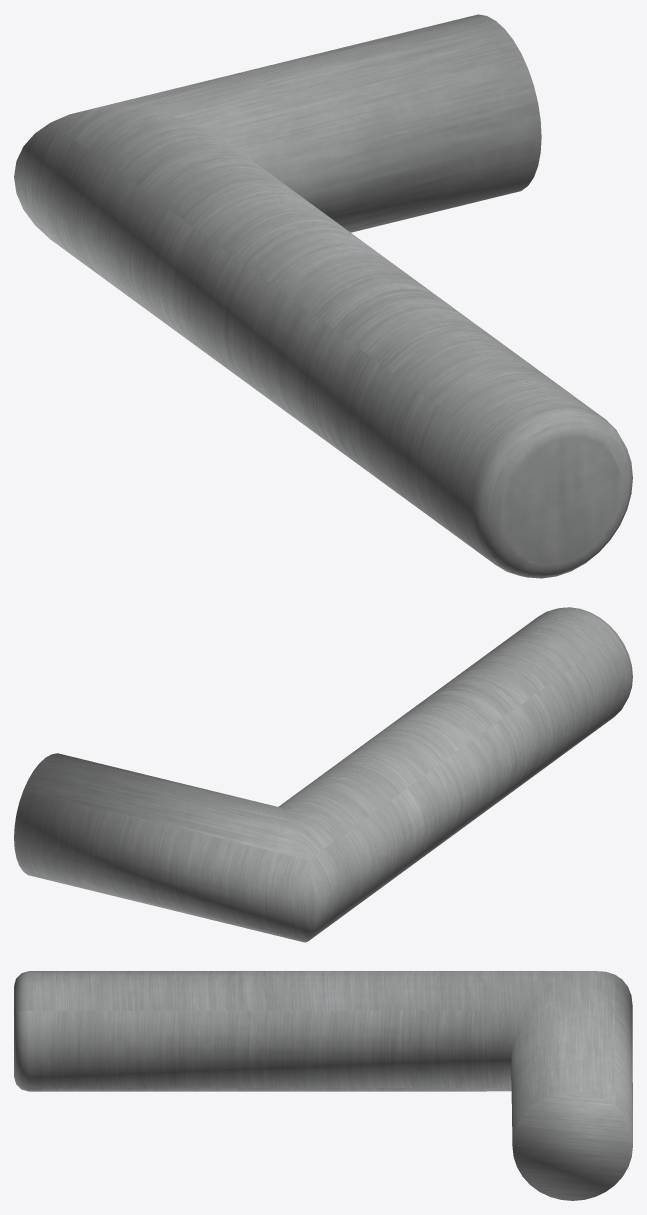
Rendered from Door_Handle.fbx.
The picture shows the model from 3 angles, top to bottom: view 1: azimuth 30°, elevation 25°; view 2: azimuth 150°, elevation 25°; view 3: azimuth 270°, elevation 25°; orthographic projection. The views are drawn at different scales.
Visible parts, largest first — view 1: Door.Handle.002; view 2: Door.Handle.002; view 3: Door.Handle.002.
Part boxes in pixels (<box>): Door.Handle.002: <box>14,14,632,578</box>; Door.Handle.002: <box>14,607,632,942</box>; Door.Handle.002: <box>14,971,632,1200</box>.
Bounding box in the file's own units: 7.75 × 2.81 × 14.42.
